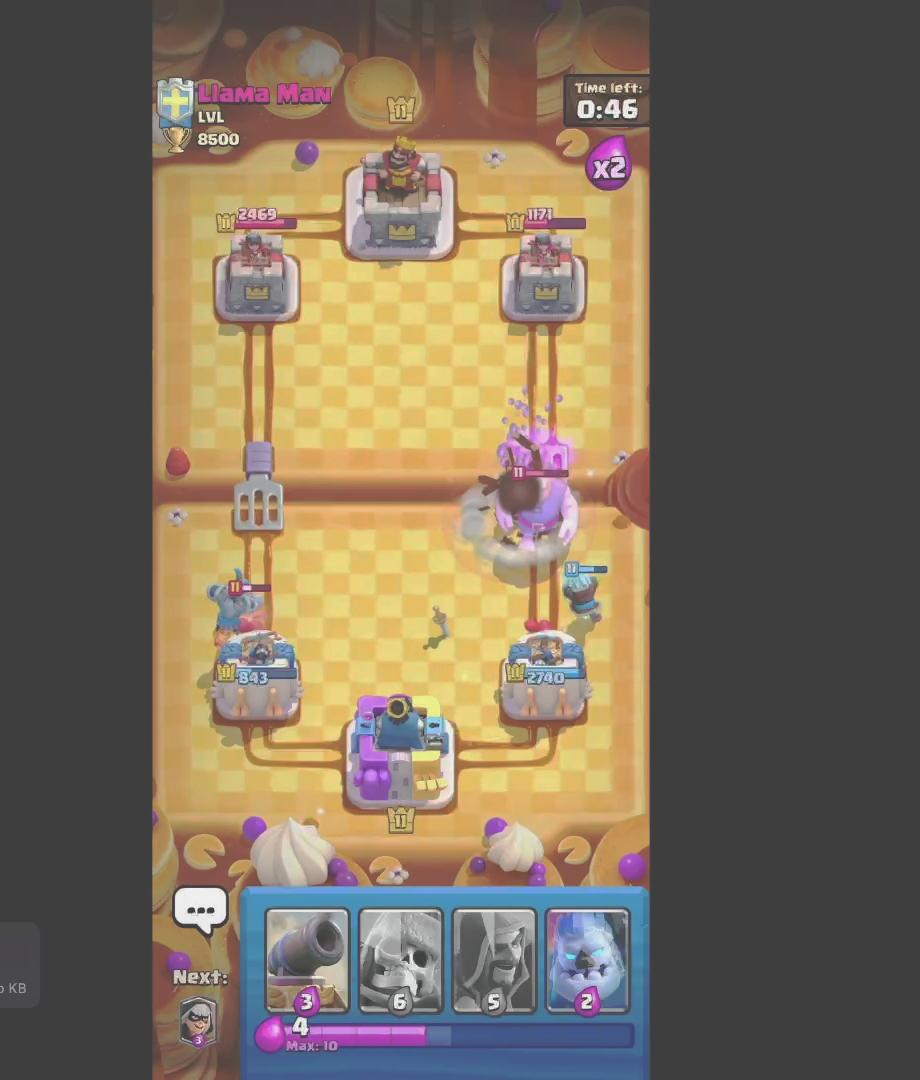Giant: (498, 454, 582, 552)
Hog Rider: (210, 574, 275, 645)
